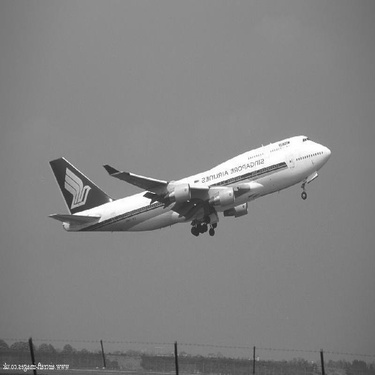airplane: (40, 131, 333, 242)
